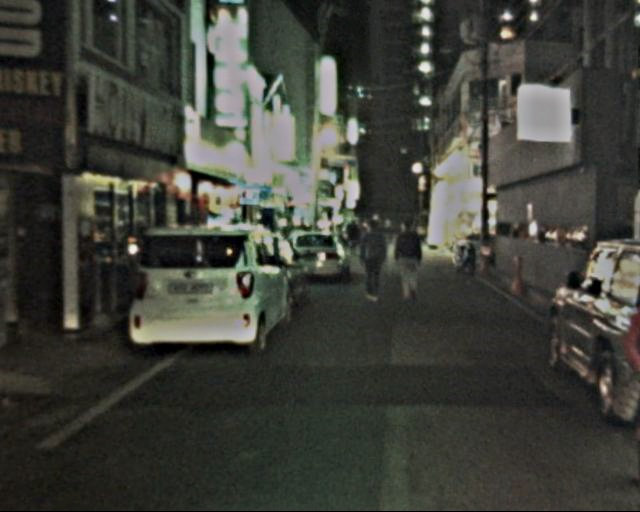person: (391, 219, 428, 303), (355, 220, 390, 305)
